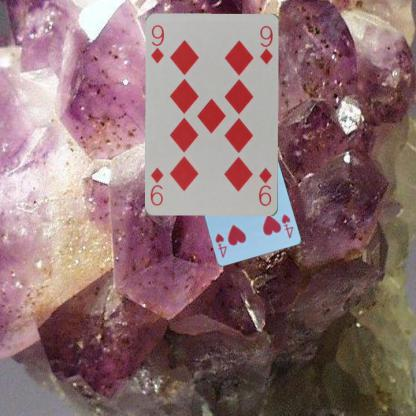4h: (279, 212, 294, 239)
9d: (256, 166, 274, 208), (148, 22, 166, 64)
